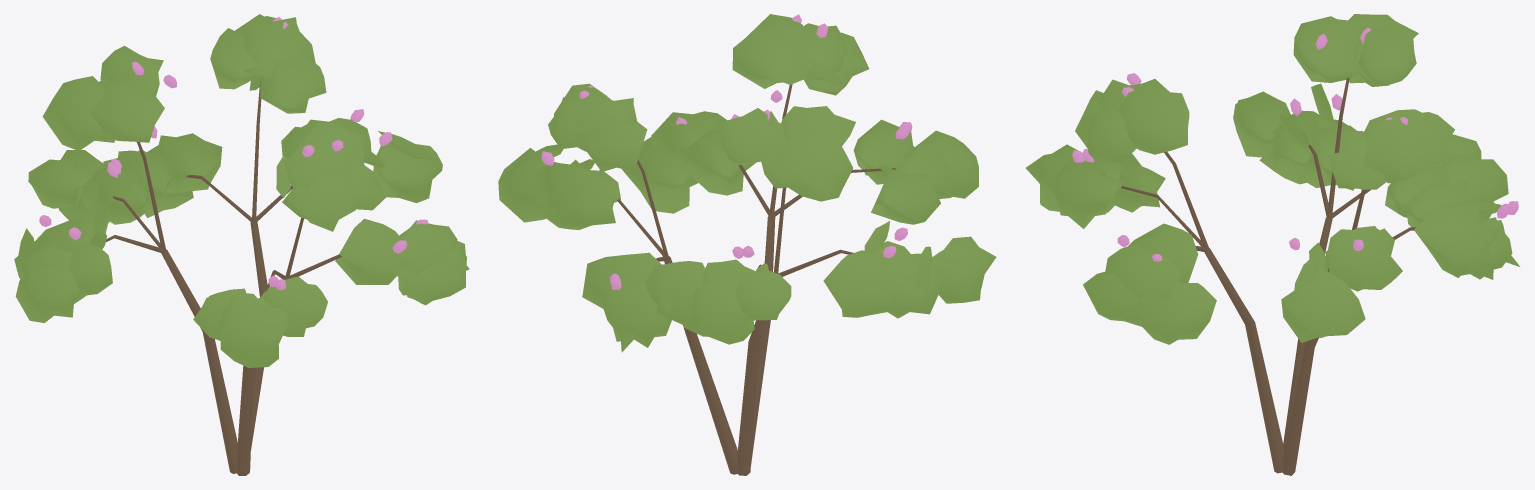
The model's file is Blender_DesertWillow_1.glb.
3 renders of one model, left to right at view 1: azimuth 30°, elevation 25°; view 2: azimuth 150°, elevation 25°; view 3: azimuth 270°, elevation 25°, orthographic. The views are drawn at different scales.
Parts seen in each view (by area): view 1: Blender_DesertWillow_1; view 2: Blender_DesertWillow_1; view 3: Blender_DesertWillow_1.
Boxes of the visible parts, left/top/right/bottom form: Blender_DesertWillow_1: left=14, top=14, right=469, bottom=475; Blender_DesertWillow_1: left=498, top=14, right=996, bottom=475; Blender_DesertWillow_1: left=1026, top=14, right=1519, bottom=475.
Size of the model in its own units: 7.04 by 6.06 by 6.6.
